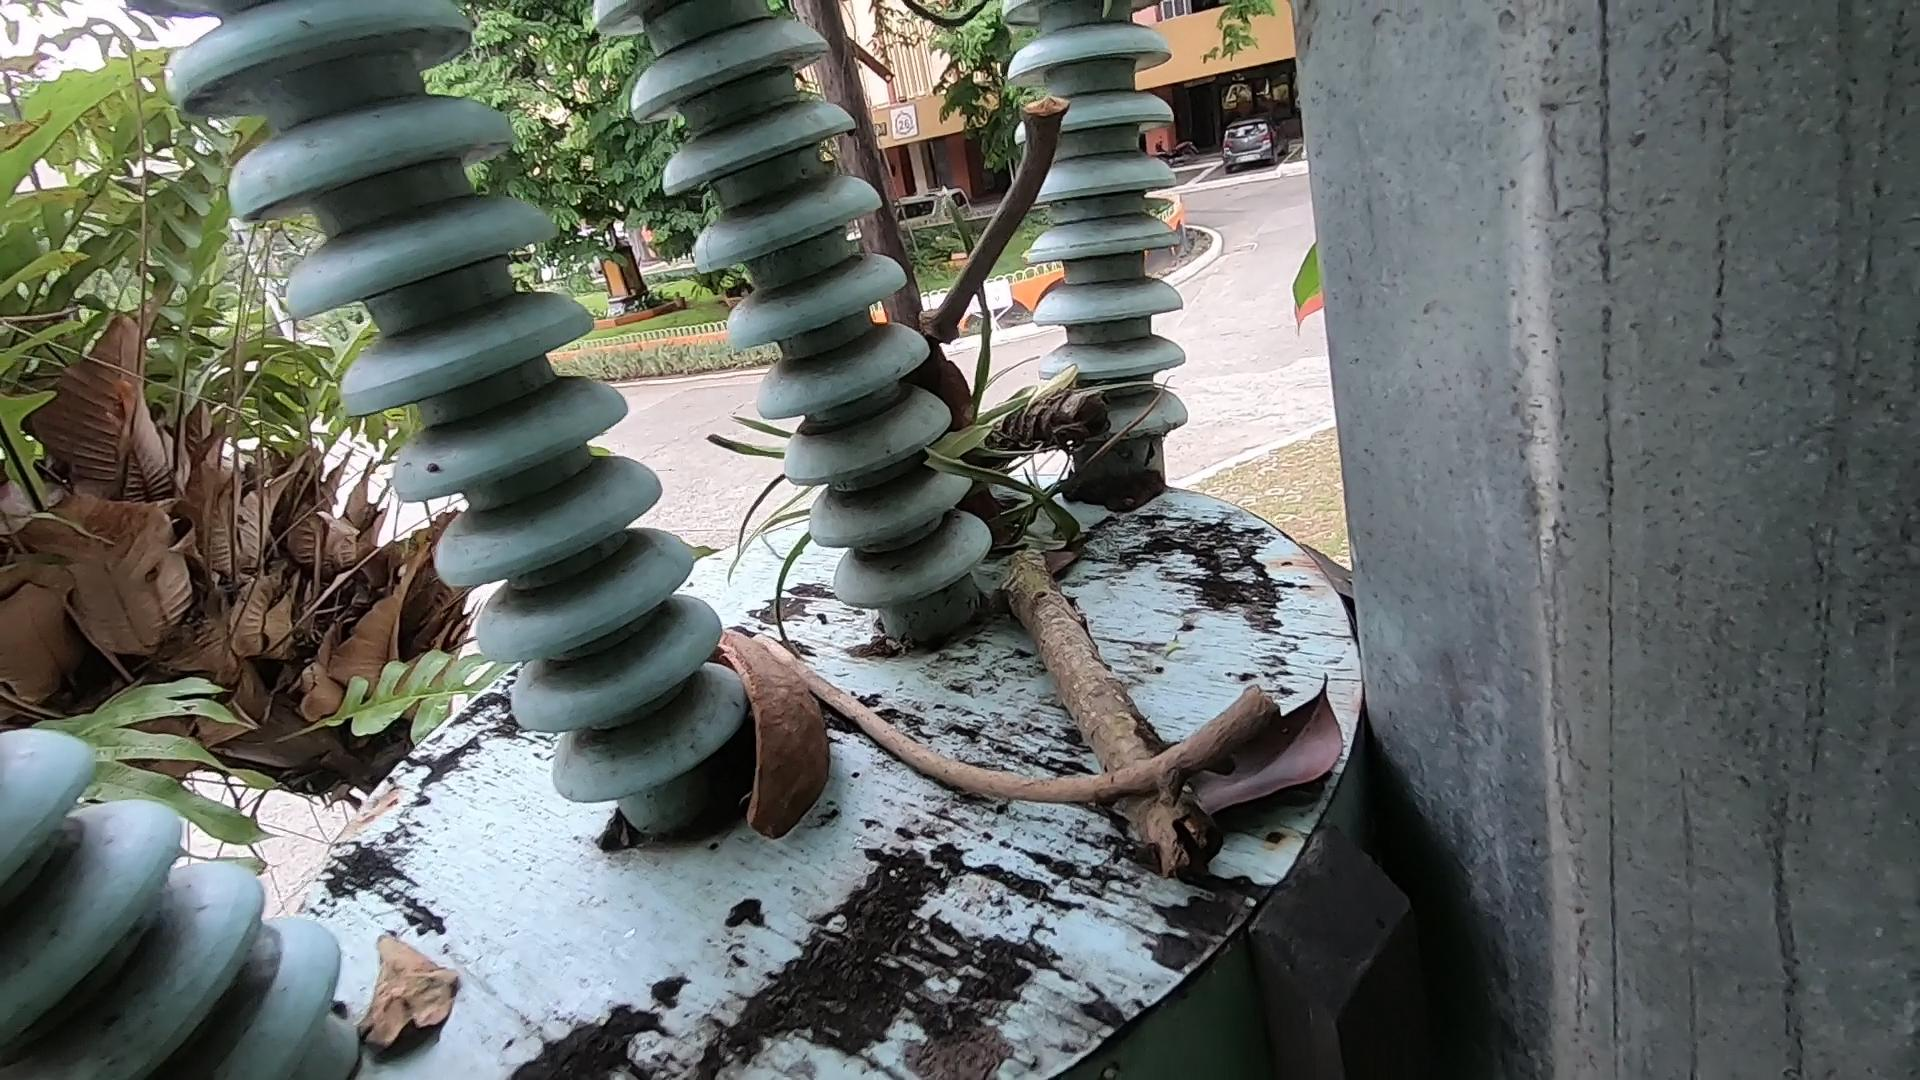branch with leaves: (843, 272, 1327, 990)
leaf: (1166, 661, 1514, 814), (331, 899, 524, 1080)
mahogany fruit: (691, 582, 825, 874), (903, 315, 1044, 585)
tree branch: (735, 630, 1364, 890), (847, 40, 1204, 433)
